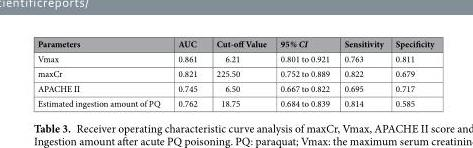table: (36, 37, 433, 109)
table column: (36, 37, 168, 109), (206, 37, 272, 109), (272, 37, 336, 109), (336, 37, 388, 109), (388, 37, 433, 109), (168, 37, 206, 109)
table column header: (36, 37, 433, 50)
table row: (36, 50, 433, 65), (36, 65, 433, 80), (36, 80, 433, 95), (36, 95, 433, 109), (36, 37, 433, 50)
